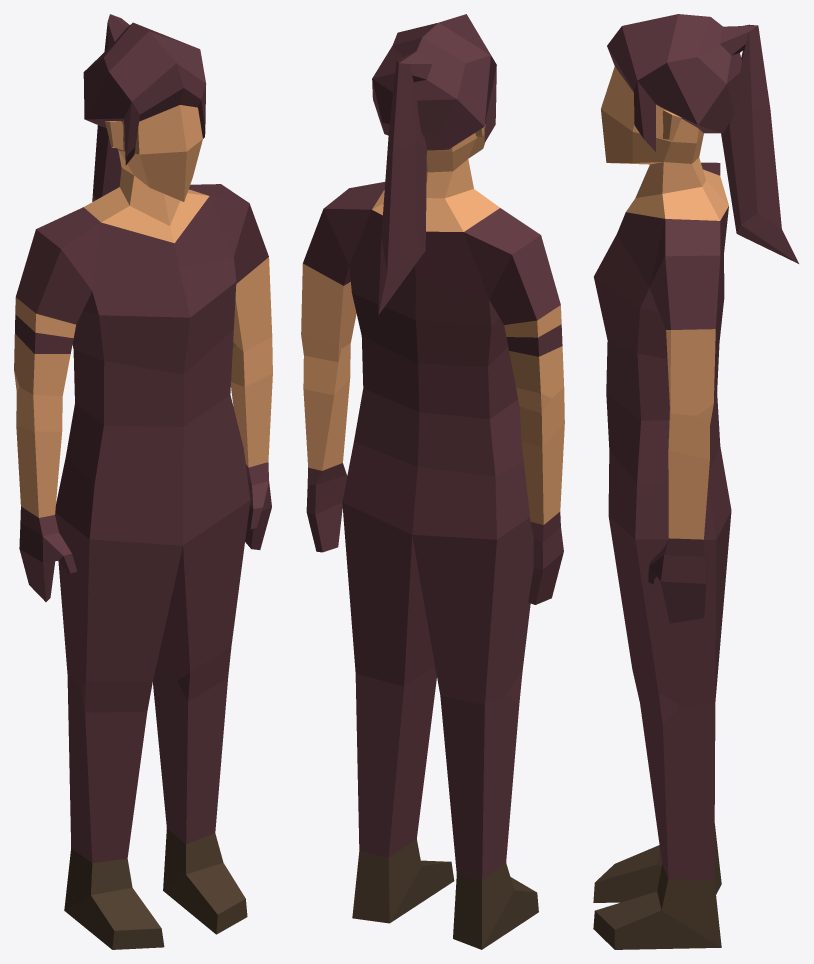
Rendered from woman-tattoo.fbx.
3 views of the same model, side by side, from view 1: azimuth 30°, elevation 25°; view 2: azimuth 150°, elevation 25°; view 3: azimuth 270°, elevation 25° (orthographic). The views are drawn at different scales.
Parts seen in each view (by area): view 1: woman-tattoo; view 2: woman-tattoo; view 3: woman-tattoo.
Part boxes in pixels (x1=…): woman-tattoo: x1=14, y1=14, x2=272, y2=949; woman-tattoo: x1=301, y1=14, x2=564, y2=949; woman-tattoo: x1=593, y1=14, x2=798, y2=949.
Bounding box in the file's own units: 0.5327 × 1.86 × 0.386.
